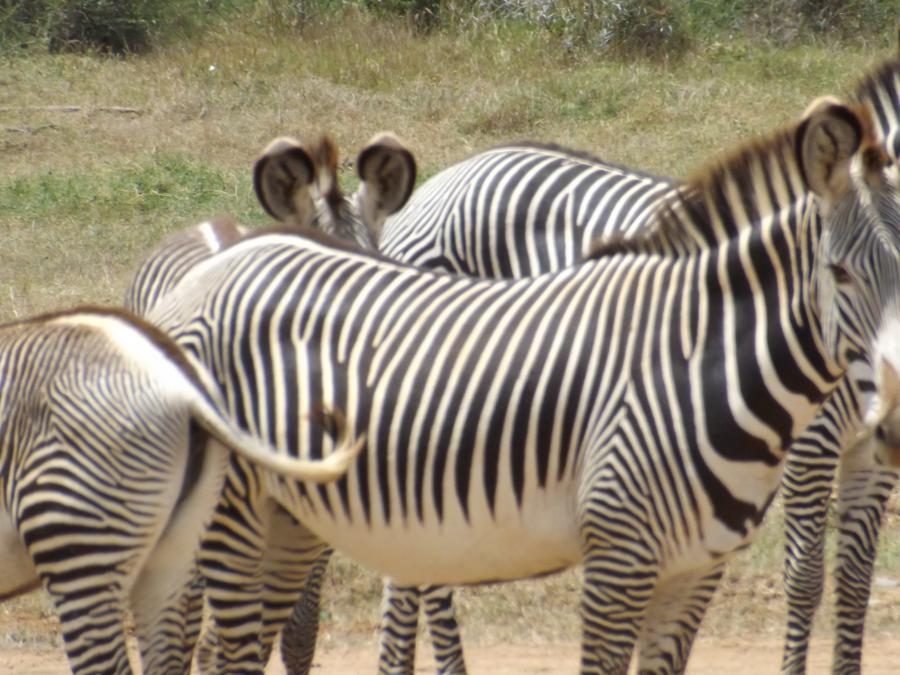zebra_grevys: (170, 218, 706, 566)
